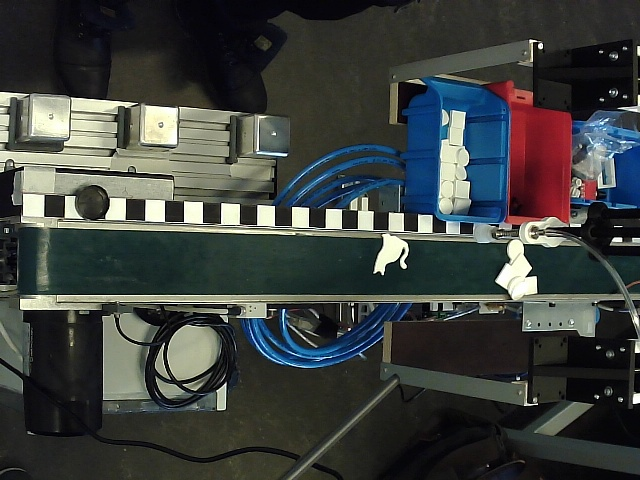cat: (373, 234, 410, 277)
